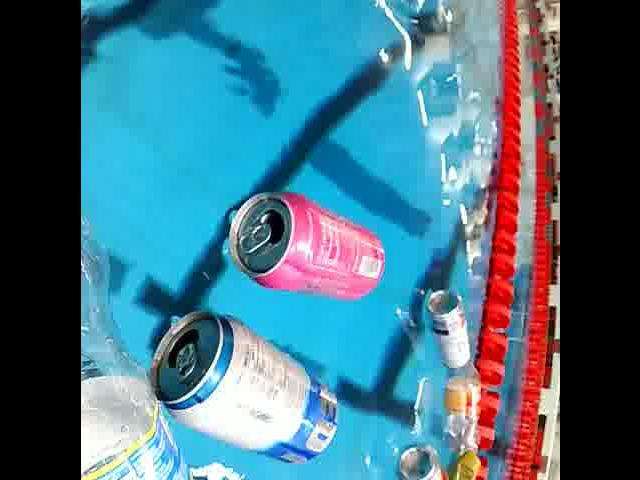Bottle: (80, 200, 214, 480), (444, 350, 486, 459)
Can: (142, 303, 344, 467), (224, 183, 388, 308), (422, 283, 472, 371), (391, 439, 451, 480), (436, 449, 482, 480)
